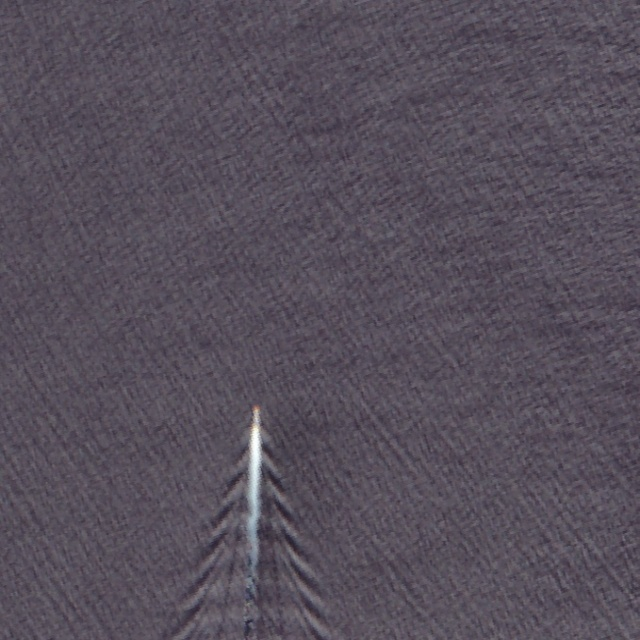wake: (199, 399, 310, 592)
